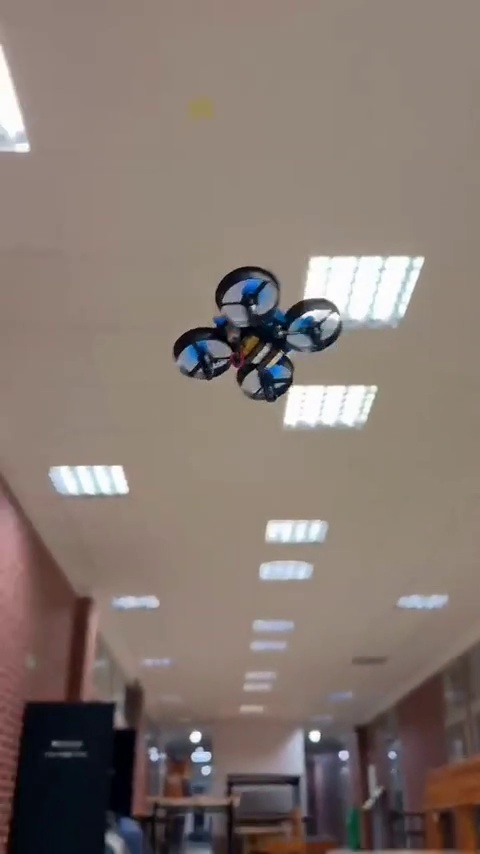drone: (170, 270, 340, 394)
